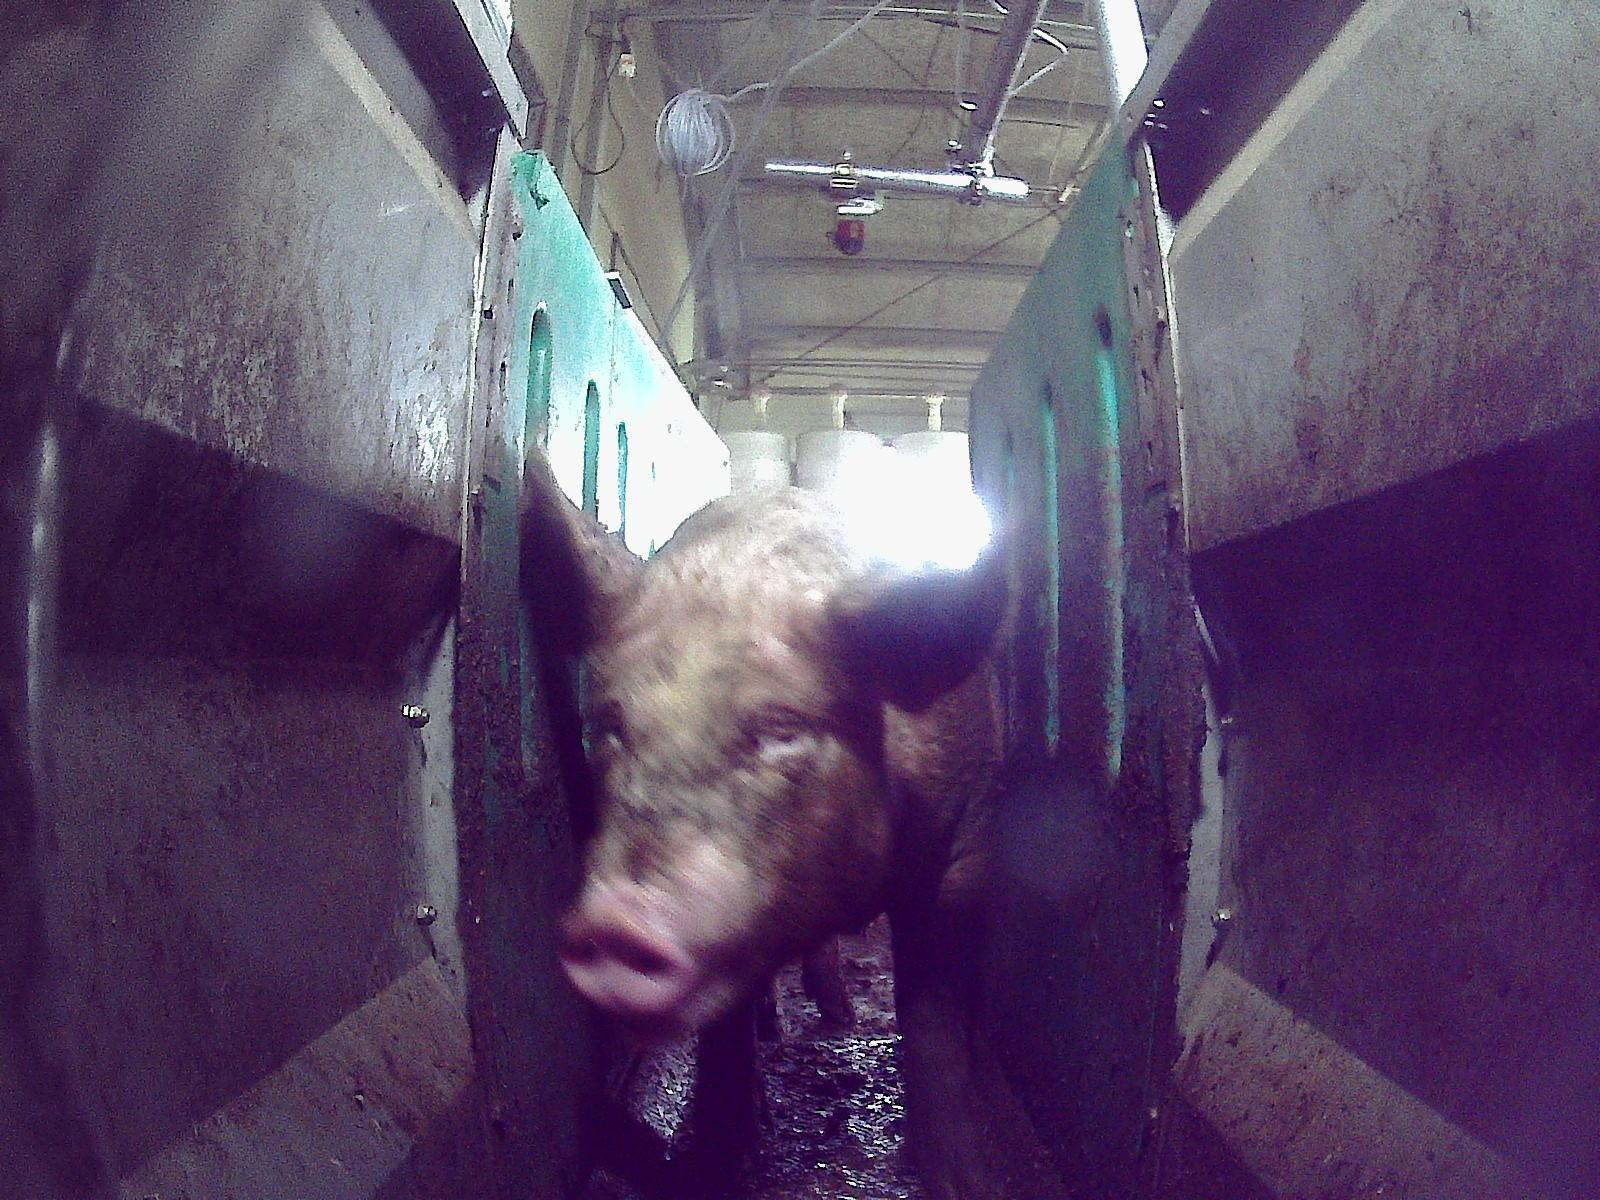Face: (555, 601, 883, 1043)
